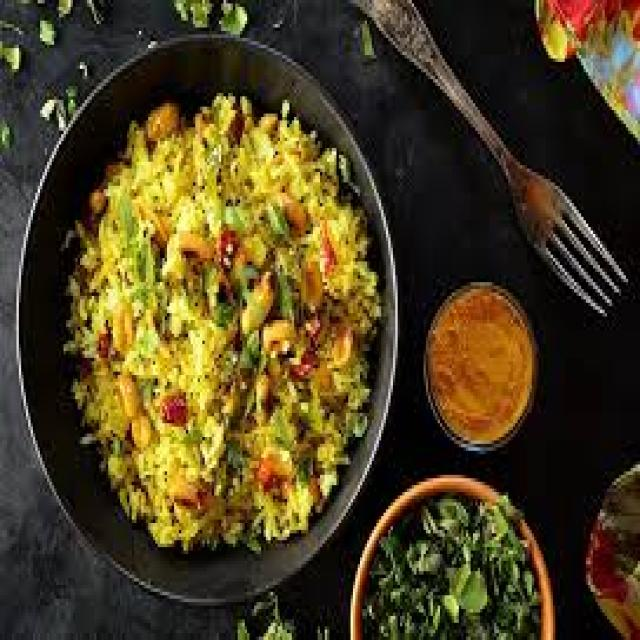POHA: (64, 95, 379, 555)
